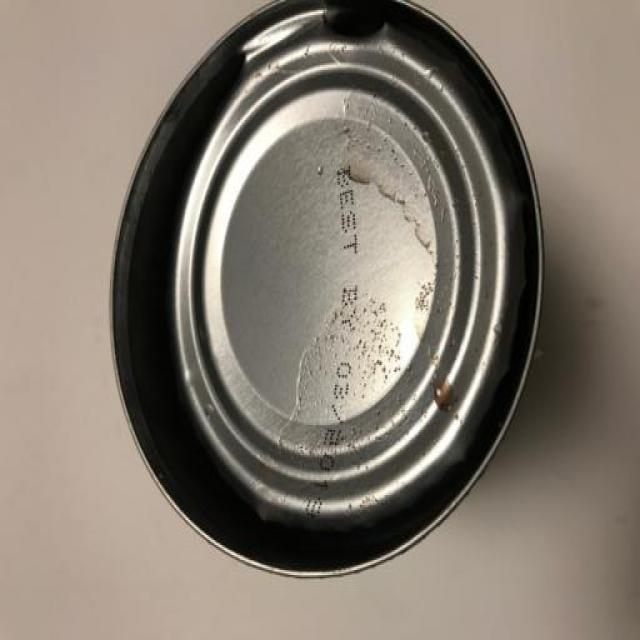metel: (96, 1, 598, 640)
